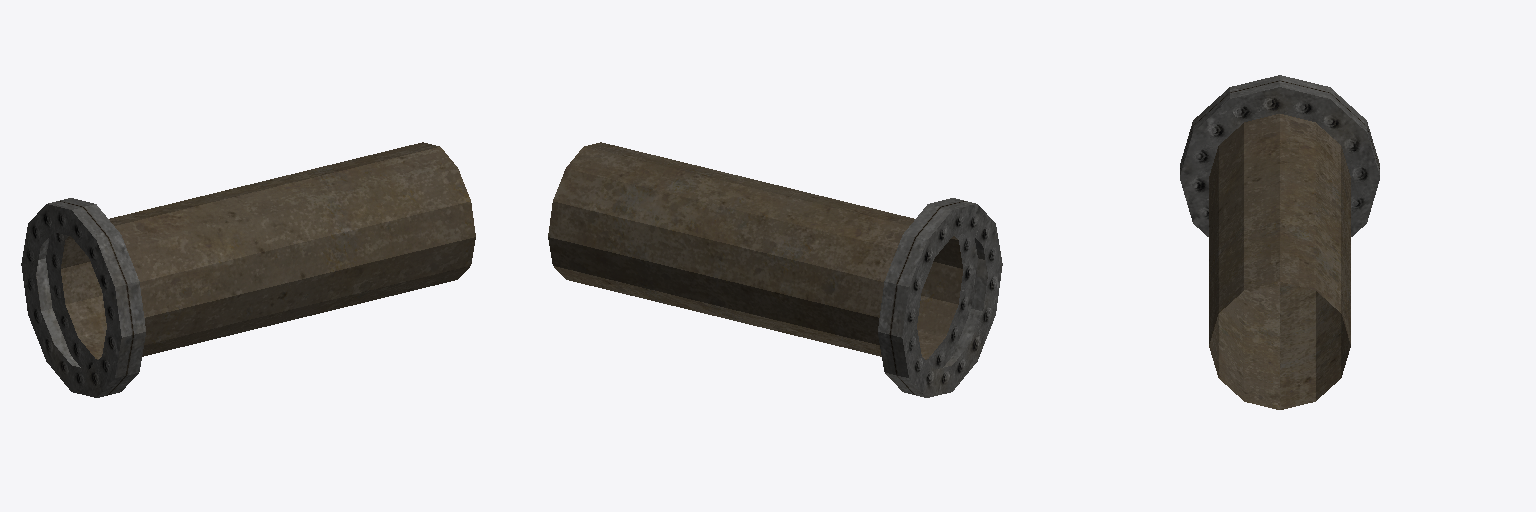
3 renders of one model, left to right at view 1: azimuth 30°, elevation 25°; view 2: azimuth 150°, elevation 25°; view 3: azimuth 270°, elevation 25°, orthographic.
Visible parts, largest first — view 1: short_endpiece_closed; view 2: short_endpiece_closed; view 3: short_endpiece_closed.
Part boxes in pixels (left/top/right/bottom): short_endpiece_closed: left=21, top=142, right=475, bottom=397; short_endpiece_closed: left=548, top=142, right=1002, bottom=397; short_endpiece_closed: left=1180, top=75, right=1379, bottom=409.
Bounding box in the file's own units: 1.5 × 0.7071 × 0.7071.
Materials: 1 (1 with a texture image).